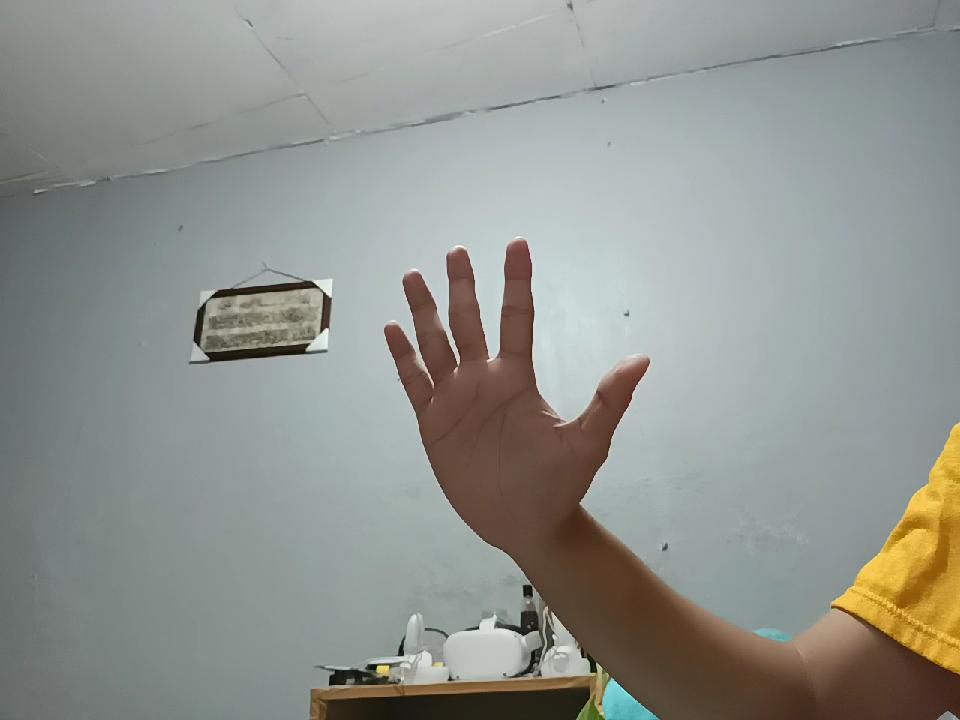paper: (374, 220, 640, 560)
